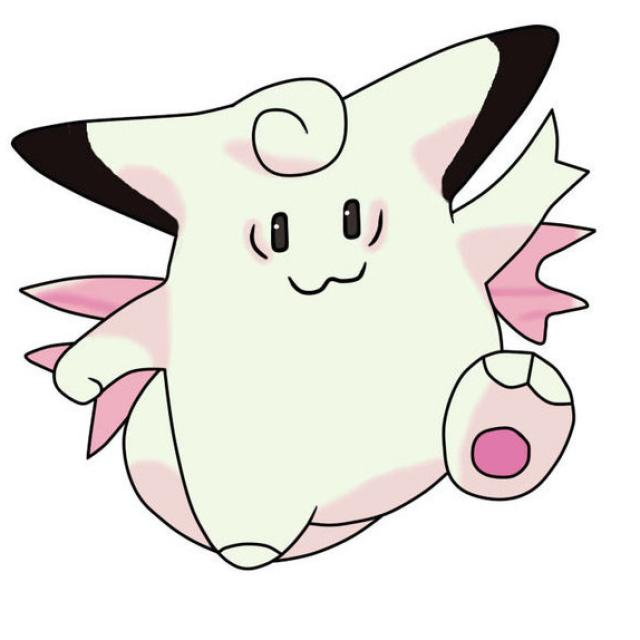Clefable: (16, 23, 596, 577)
